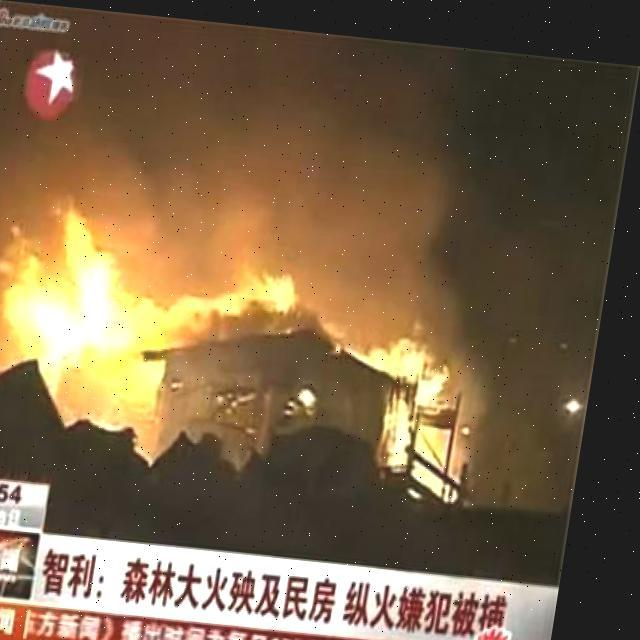Fire: (0, 184, 302, 450), (344, 316, 480, 483)
